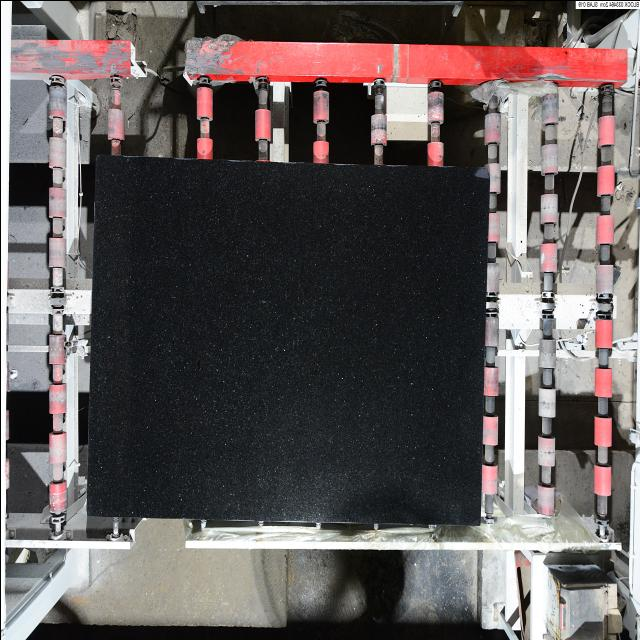chapa: (88, 156, 488, 523)
